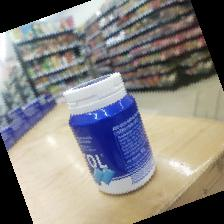Xylitol_blue: (61, 70, 158, 196)
